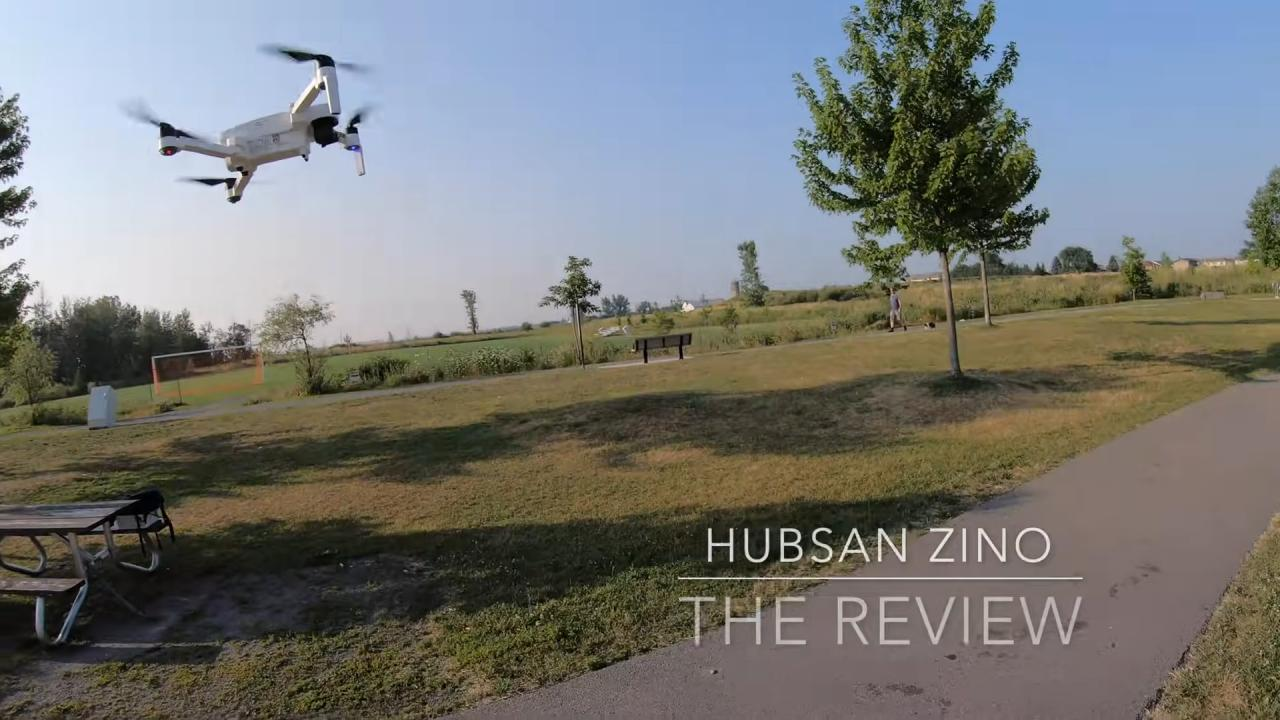Drone: (98, 29, 406, 222)
